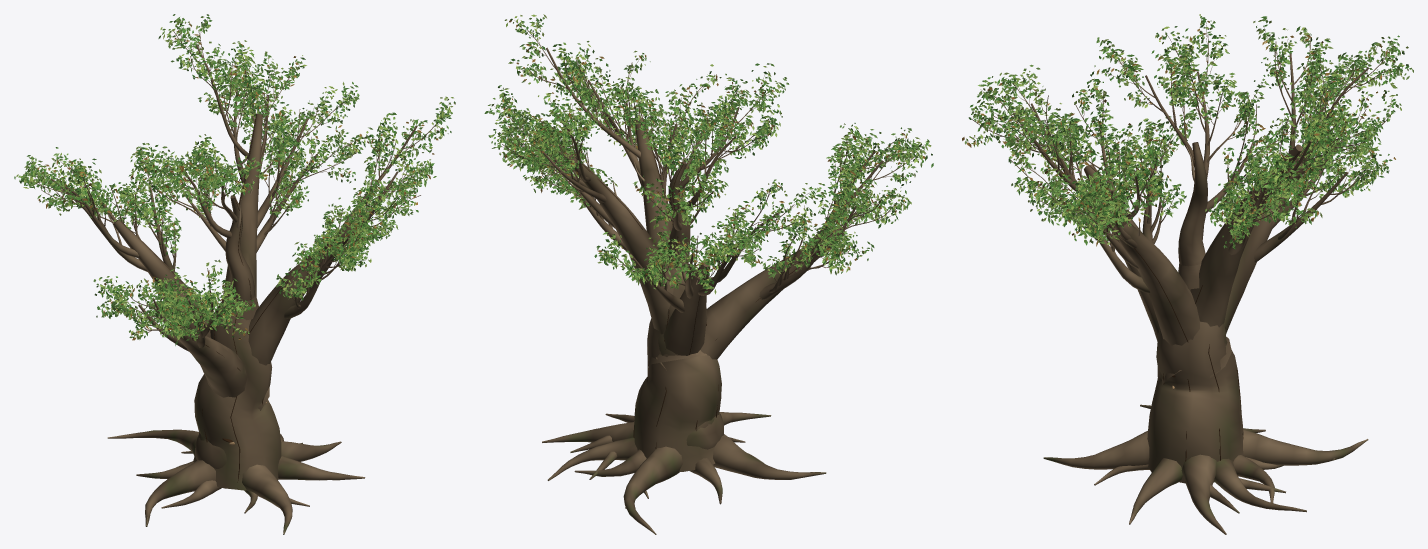
Rendered from ancient_tree.glb.
3 renders of one model, left to right at view 1: azimuth 30°, elevation 25°; view 2: azimuth 150°, elevation 25°; view 3: azimuth 270°, elevation 25°, orthographic. The views are drawn at different scales.
Visible parts, largest first — view 1: AncientLeaves, AncientTreeWood, FineBranches, DirectedBarkGrooves; view 2: AncientTreeWood, AncientLeaves, FineBranches, DirectedBarkGrooves; view 3: AncientTreeWood, AncientLeaves, FineBranches, DirectedBarkGrooves.
Part boxes in pixels (box(x1,y1,x2,y2)): AncientLeaves: box(14, 14, 455, 345); AncientTreeWood: box(31, 29, 443, 534); FineBranches: box(31, 19, 450, 334); DirectedBarkGrooves: box(119, 114, 352, 488); AncientTreeWood: box(502, 30, 915, 534); AncientLeaves: box(484, 14, 933, 294); FineBranches: box(494, 19, 924, 285); DirectedBarkGrooves: box(563, 118, 842, 448); AncientTreeWood: box(972, 35, 1390, 534); AncientLeaves: box(962, 14, 1413, 249); FineBranches: box(973, 21, 1399, 250); DirectedBarkGrooves: box(1084, 142, 1300, 483).
Bounding box in the file's own units: 20.96 × 21.87 × 19.94.
